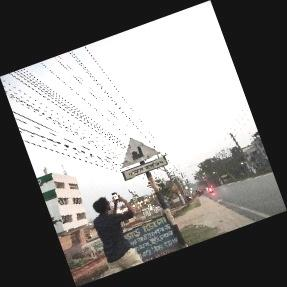Mosque in front: (119, 138, 167, 182)
